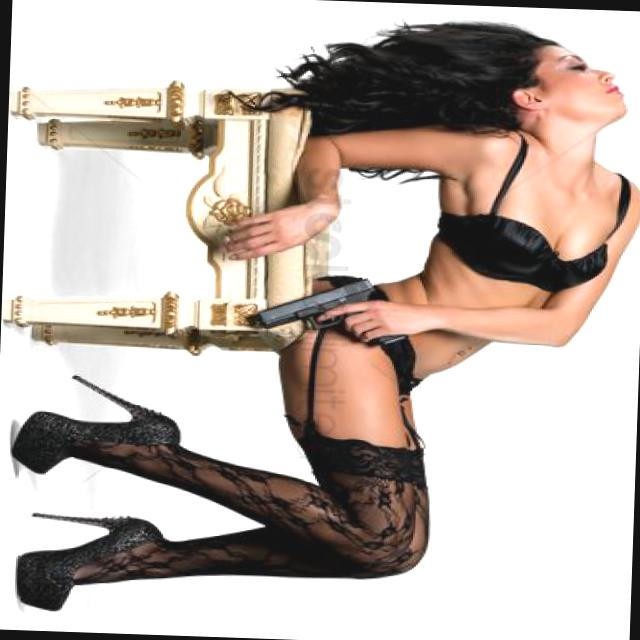handgun: (258, 268, 414, 353)
